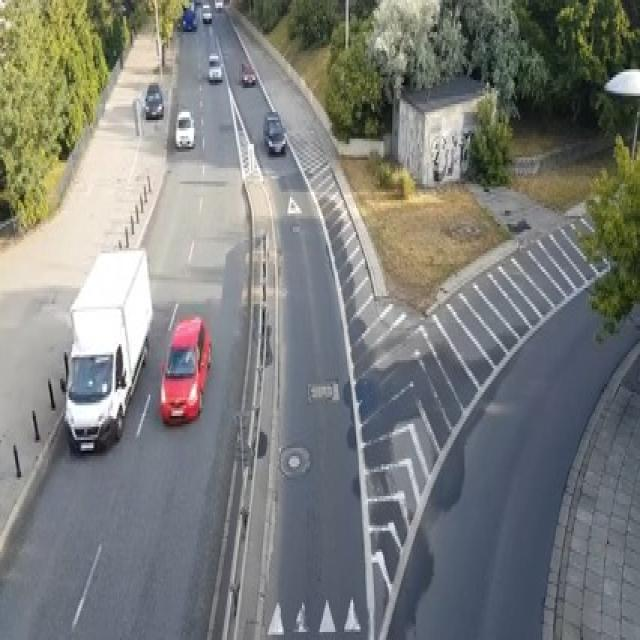car: (159, 315, 212, 424), (263, 109, 285, 155), (174, 109, 194, 147), (144, 83, 164, 117), (208, 51, 222, 82), (240, 59, 256, 85), (182, 6, 197, 30), (201, 3, 212, 21), (214, 0, 222, 11)
truck: (58, 246, 152, 454)
